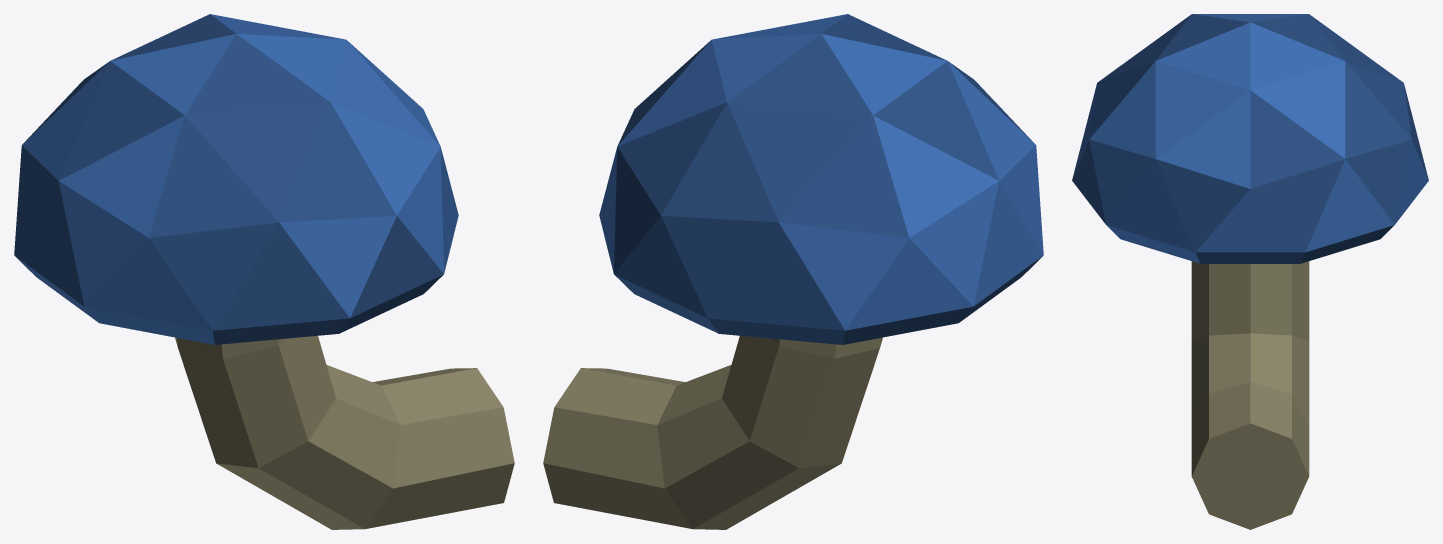
The model's file is Mushroom_5_Blue.fbx.
The picture shows the model from 3 angles, left to right: view 1: azimuth 30°, elevation 25°; view 2: azimuth 150°, elevation 25°; view 3: azimuth 270°, elevation 25°; orthographic projection. The views are drawn at different scales.
Parts seen in each view (by area): view 1: Mushroom_5_Blue; view 2: Mushroom_5_Blue; view 3: Mushroom_5_Blue.
Boxes of the visible parts, <box> form: Mushroom_5_Blue: <box>14,14,514,529</box>; Mushroom_5_Blue: <box>543,14,1043,529</box>; Mushroom_5_Blue: <box>1072,14,1428,529</box>.
Size of the model in its own units: 33.07 by 39 by 30.39.
